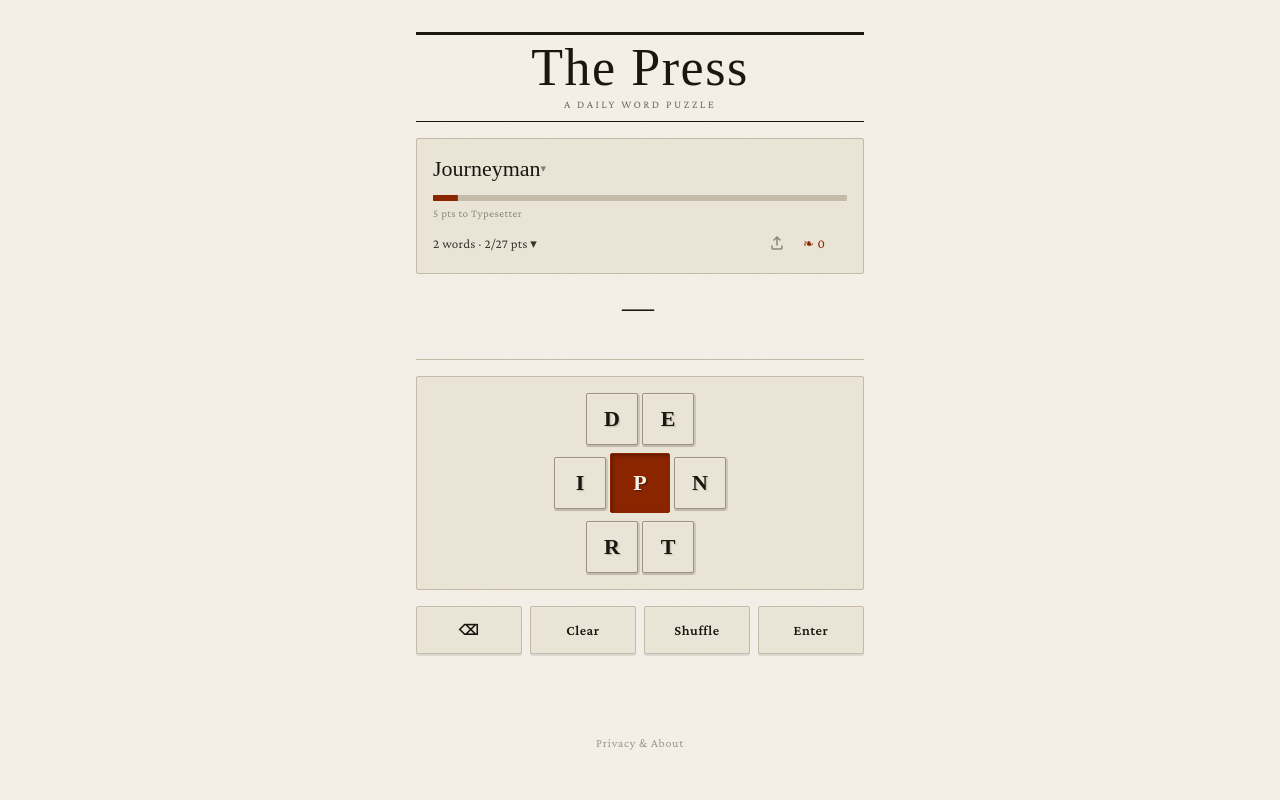
GameLayout modal interactions › opens found-words modal when score button is clicked
Click the button with aria-label "words found".
click(485, 243)  # box x1=433 y1=221 x2=537 y2=265
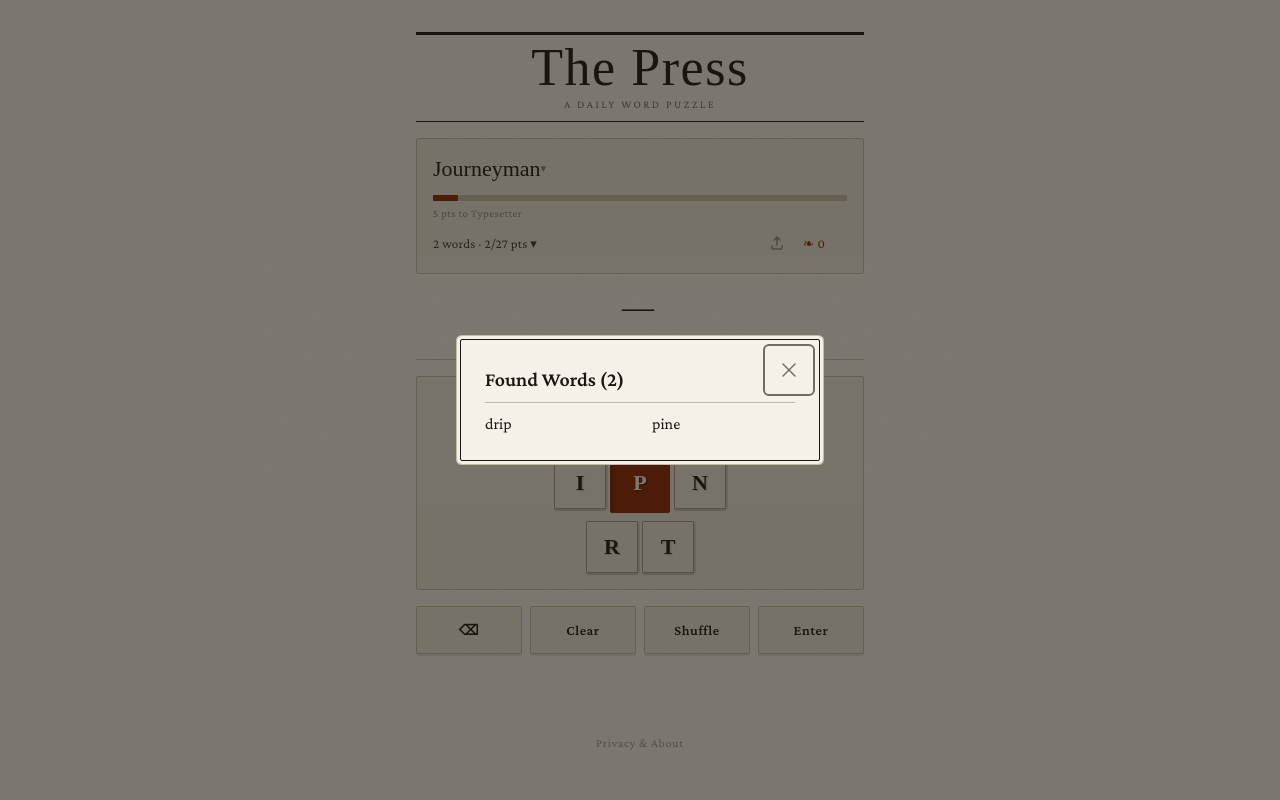
Expected: the dialog is shown, x1=460 y1=339 x2=820 y2=461
